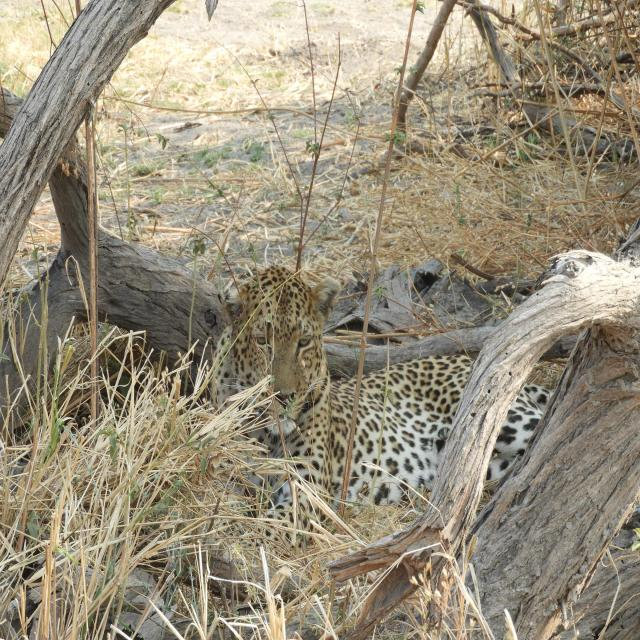Leopard: (180, 259, 608, 529)
